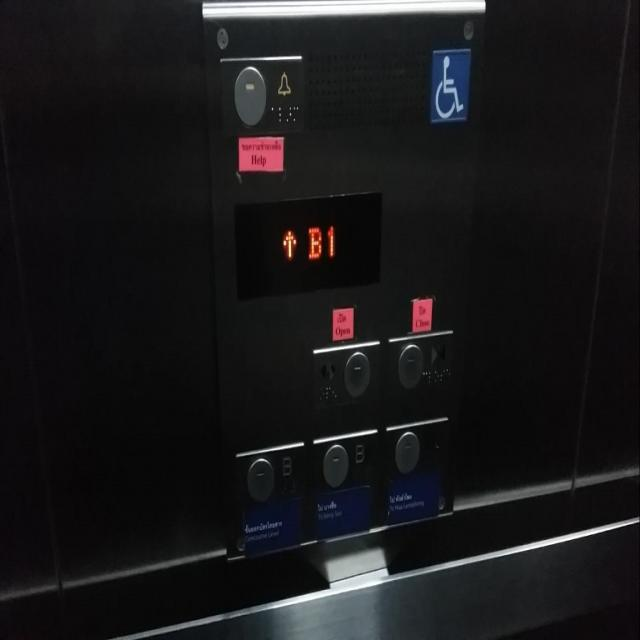B: (231, 438, 306, 515), (309, 425, 380, 498)
CH: (428, 47, 472, 124)
alarm: (214, 52, 304, 140)
blur: (382, 414, 450, 489)
close: (385, 327, 456, 398)
led: (234, 186, 385, 304)
open: (310, 338, 382, 413)
